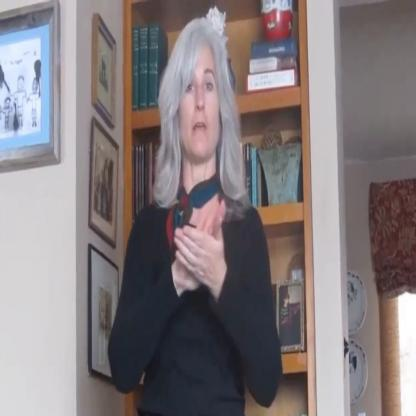NiceToMeetYou: (169, 180, 229, 314)
